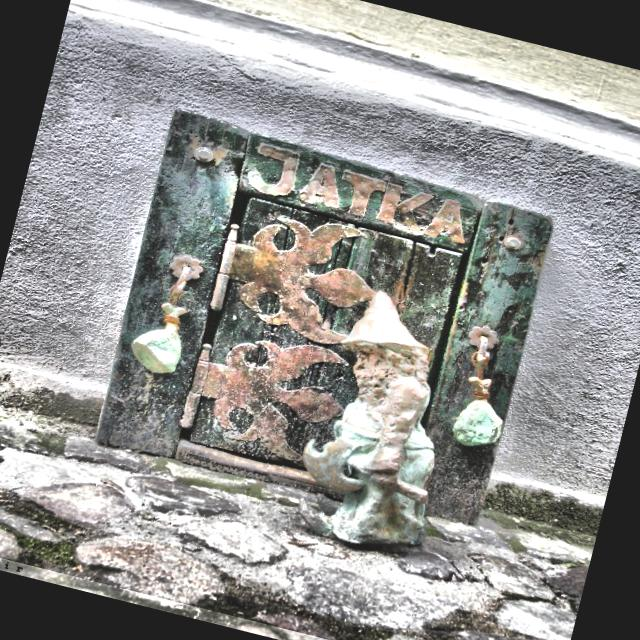Rzeznik: (302, 291, 434, 547)
